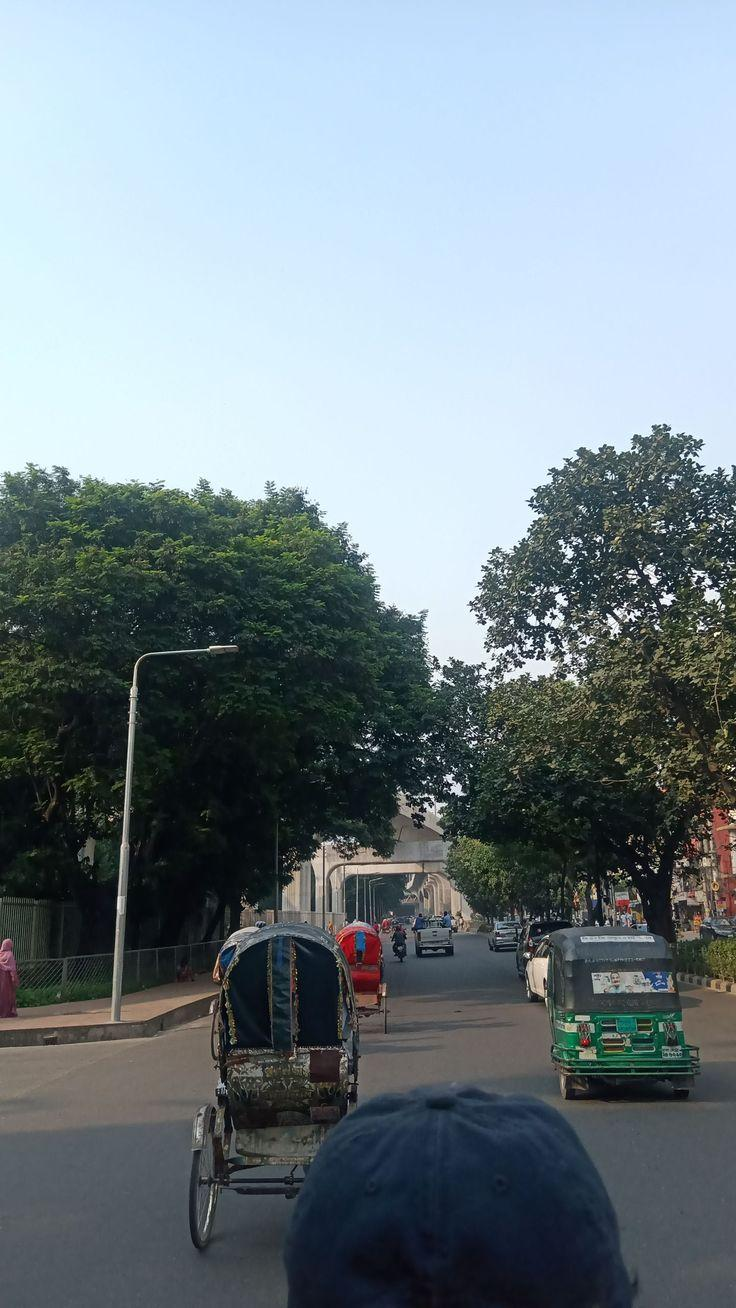Rickshaw: (189, 922, 359, 1250), (190, 920, 356, 1249), (336, 922, 386, 1031)
